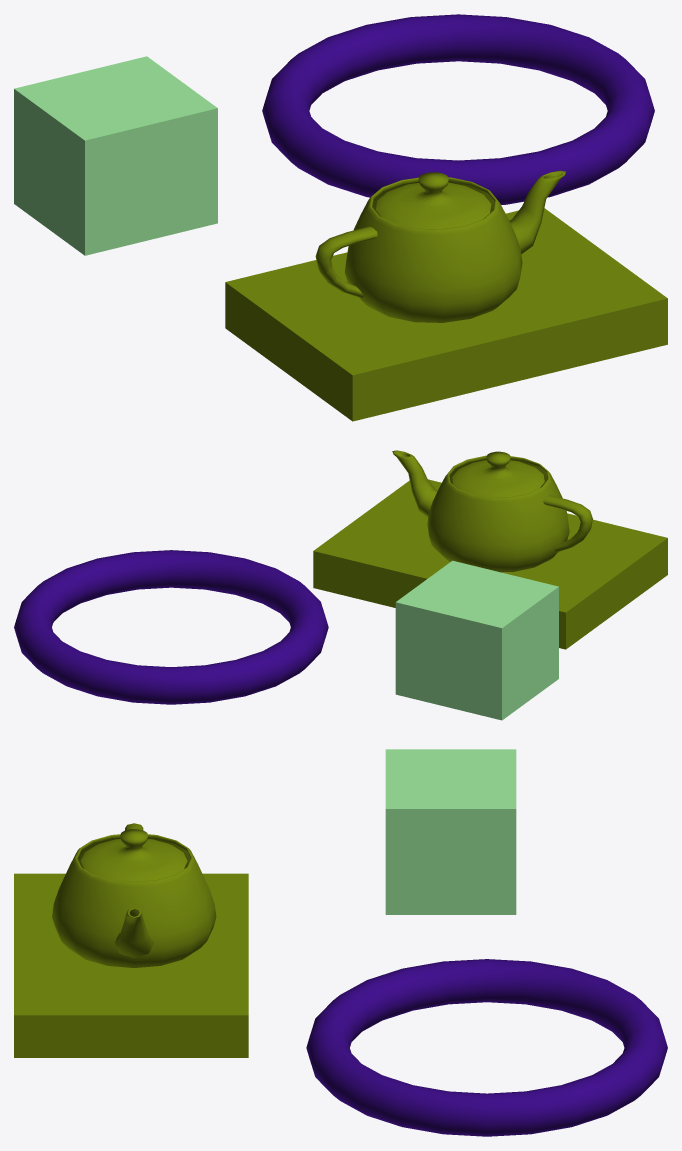
File: myObj.obj
The picture shows the model from 3 angles, top to bottom: view 1: azimuth 30°, elevation 25°; view 2: azimuth 150°, elevation 25°; view 3: azimuth 270°, elevation 25°; orthographic projection. The views are drawn at different scales.
Visible parts, largest first — view 1: three, two, one; view 2: three, two, one; view 3: three, two, one.
Boxes of the visible parts, bbox=[...] form: three: bbox=[225, 170, 667, 421]; two: bbox=[262, 14, 654, 204]; one: bbox=[14, 56, 217, 255]; three: bbox=[313, 450, 667, 649]; two: bbox=[14, 550, 328, 704]; one: bbox=[395, 560, 558, 720]; three: bbox=[14, 823, 248, 1057]; two: bbox=[306, 959, 667, 1136]; one: bbox=[385, 749, 516, 914].
Size of the model in its own units: 100 by 25.83 by 103.
